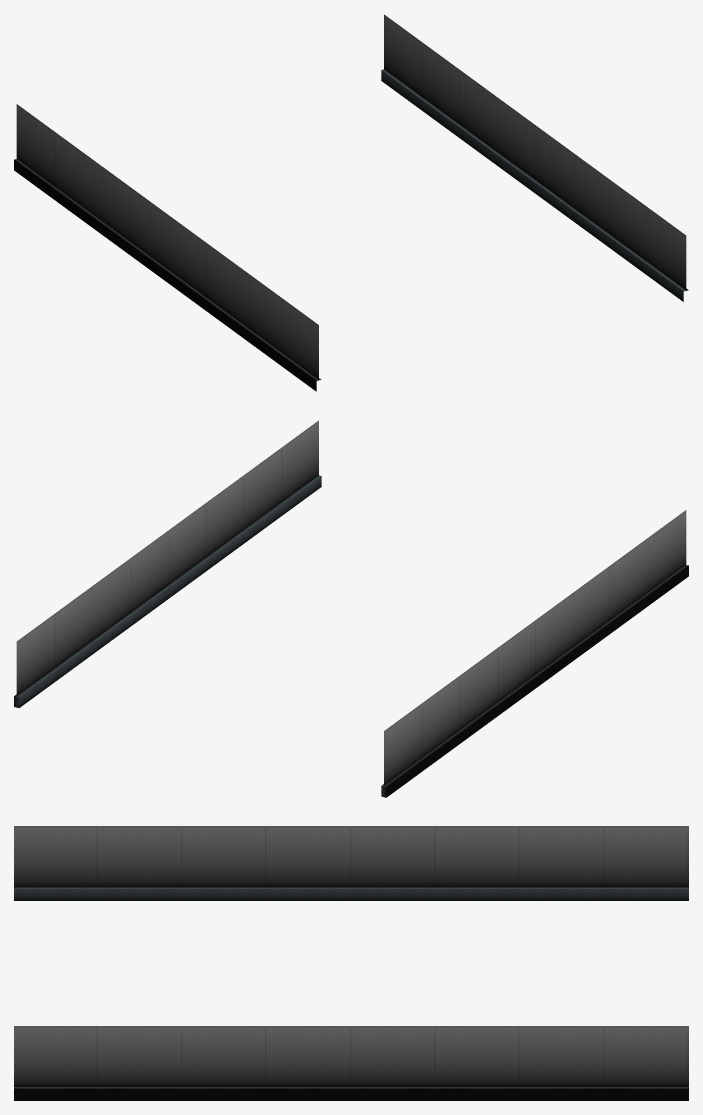
The model's file is AMB_MDL_AMI00.glb.
3 views of the same model, one above another, from view 1: azimuth 30°, elevation 25°; view 2: azimuth 150°, elevation 25°; view 3: azimuth 270°, elevation 25° (orthographic). The views are drawn at different scales.
Parts seen in each view (by area): view 1: obj8; view 2: obj8; view 3: obj8.
Boxes of the visible parts, bbox=[...] form: obj8: bbox=[14, 14, 688, 391]; obj8: bbox=[14, 420, 688, 797]; obj8: bbox=[14, 826, 688, 1100].
Size of the model in its own units: 71.06 by 12.03 by 100.
3 materials, 2 textured.
